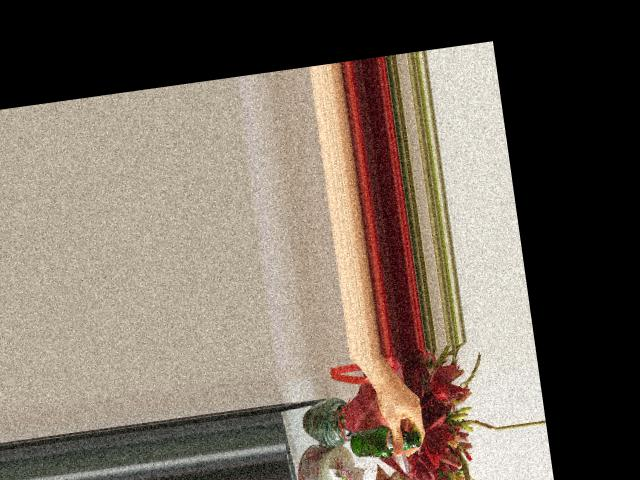beer: (347, 421, 422, 462)
